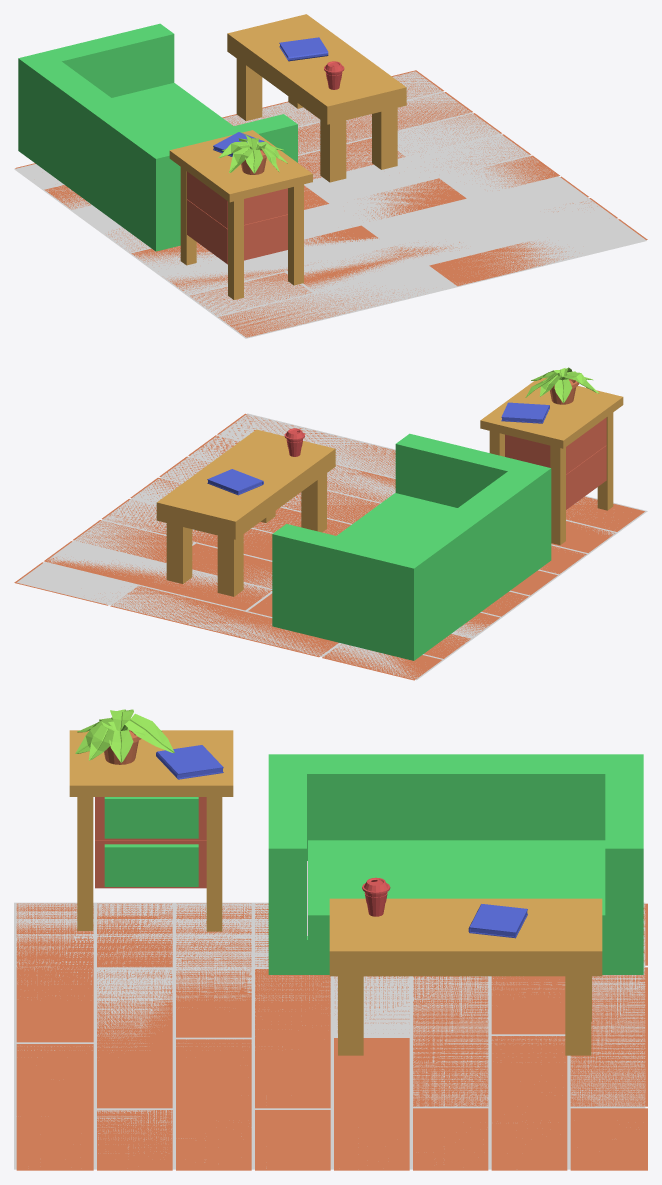
File: room5.glb
The picture shows the model from 3 angles, top to bottom: view 1: azimuth 30°, elevation 25°; view 2: azimuth 150°, elevation 25°; view 3: azimuth 270°, elevation 25°; orthographic projection. The views are drawn at different scales.
Parts seen in each view (by area): view 1: Cube.003, 平面.027, Cube.004, 平面.030, 平面, 平面.033, 平面.001, 平面.028, 平面.038, 平面.035, 平面.051; view 2: 平面.027, Cube.004, Cube.003, 平面.030, 平面.033, 平面, 平面.028, 平面.001, 平面.035, 平面.038, 平面.051, 平面.050; view 3: Cube.004, 平面.027, Cube.003, 平面.030, 平面.028, 平面.033, 平面.001, 平面, 平面.039, 平面.036, 平面.038, 平面.050 (+4 smaller).
Part boxes in pixels (<box>): Cube.003: <box>14,71,646,338</box>; 平面.027: <box>18,23,297,251</box>; Cube.004: <box>15,70,647,337</box>; 平面.030: <box>227,14,406,124</box>; 平面: <box>236,59,397,182</box>; 平面.033: <box>169,130,312,202</box>; 平面.001: <box>180,167,303,299</box>; 平面.028: <box>112,83,233,141</box>; 平面.038: <box>187,199,287,264</box>; 平面.035: <box>187,171,287,228</box>; 平面.051: <box>279,37,328,61</box>; 平面.027: <box>272,433,551,660</box>; Cube.004: <box>14,413,644,680</box>; Cube.003: <box>17,413,647,680</box>; 平面.030: <box>156,429,335,539</box>; 平面.033: <box>480,378,623,448</box>; 平面: <box>166,473,326,596</box>; 平面.028: <box>337,493,457,550</box>; 平面.001: <box>489,412,613,545</box>; 平面.035: <box>505,417,606,474</box>; 平面.038: <box>566,445,606,509</box>; 平面.051: <box>207,469,263,495</box>; 平面.050: <box>501,402,549,423</box>; Cube.004: <box>16,903,647,1170</box>; 平面.027: <box>268,754,643,974</box>; Cube.003: <box>14,902,645,1169</box>; 平面.030: <box>329,898,602,976</box>; 平面.028: <box>308,840,605,939</box>; 平面.033: <box>69,730,233,796</box>; 平面.001: <box>77,797,222,931</box>; 平面: <box>338,976,591,1055</box>; 平面.039: <box>104,844,198,886</box>; 平面.036: <box>104,797,198,838</box>; 平面.038: <box>95,840,206,888</box>; 平面.050: <box>156,745,223,779</box>.
Bounding box in the file's own units: 2.01 × 0.764 × 2.01.
